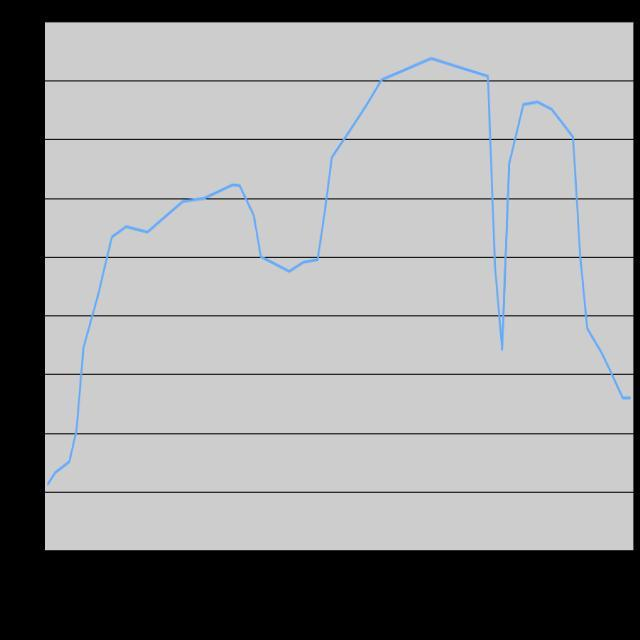line: (46, 54, 632, 484)
